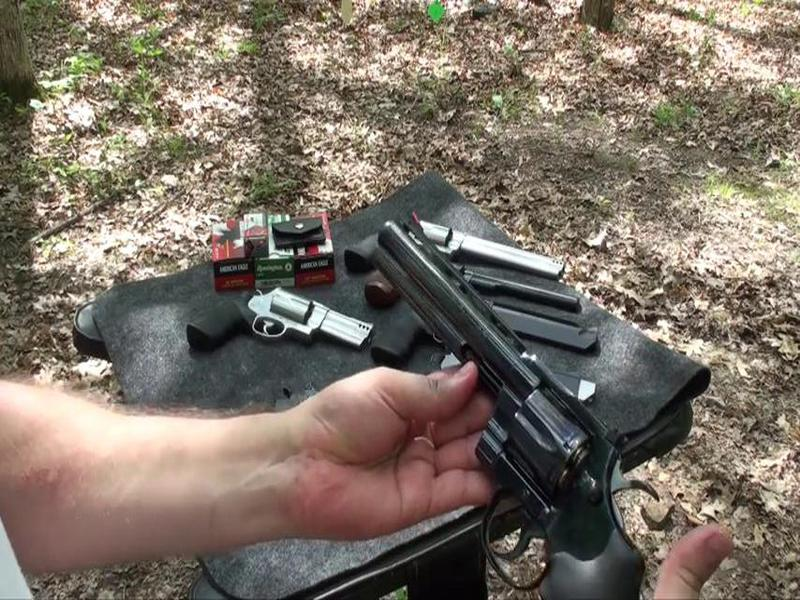Revolver: (370, 199, 651, 600)
